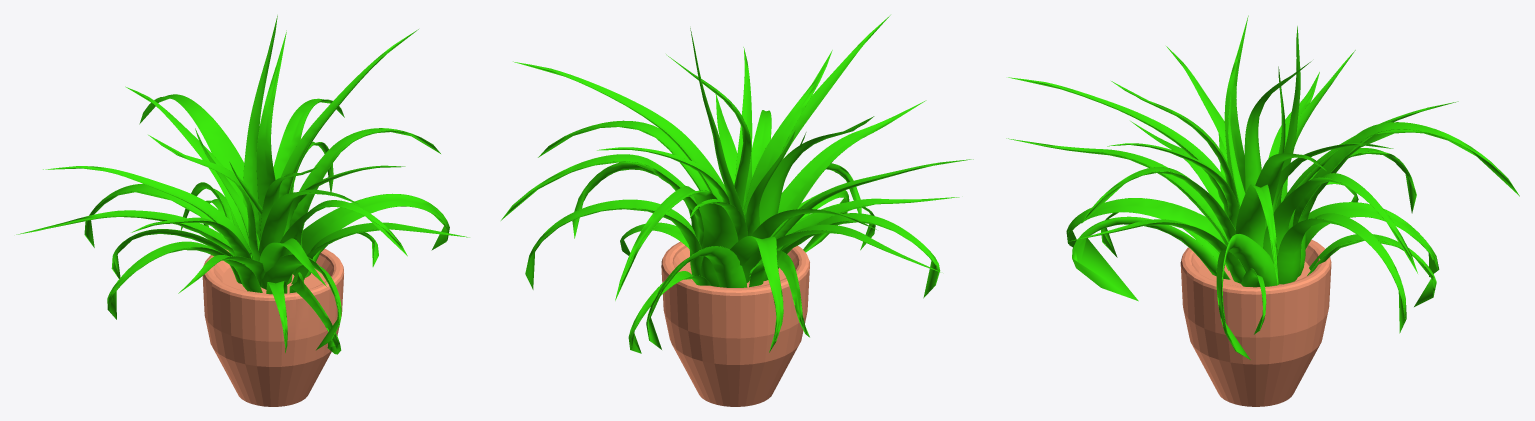
Rendered from ParcalSaks (1).fbx.
3 renders of one model, left to right at view 1: azimuth 30°, elevation 25°; view 2: azimuth 150°, elevation 25°; view 3: azimuth 270°, elevation 25°, orthographic. The views are drawn at different scales.
Visible parts, largest first — view 1: Flower.009, Flower.012, Flower.011, Flower.013; view 2: Flower.009, Flower.013, Flower.010, Flower.012; view 3: Flower.009, Flower.010, Flower.011.
Part boxes in pixels (<box>): Flower.009: <box>16,15,469,354</box>; Flower.012: <box>211,280,308,406</box>; Flower.011: <box>287,264,343,404</box>; Flower.013: <box>202,249,241,398</box>; Flower.009: <box>501,15,973,353</box>; Flower.013: <box>698,276,800,406</box>; Flower.010: <box>661,241,716,404</box>; Flower.012: <box>754,245,809,397</box>; Flower.009: <box>1006,15,1519,359</box>; Flower.010: <box>1227,259,1331,406</box>; Flower.011: <box>1180,259,1243,405</box>.
Size of the model in its own units: 2385 by 1993 by 2457.
